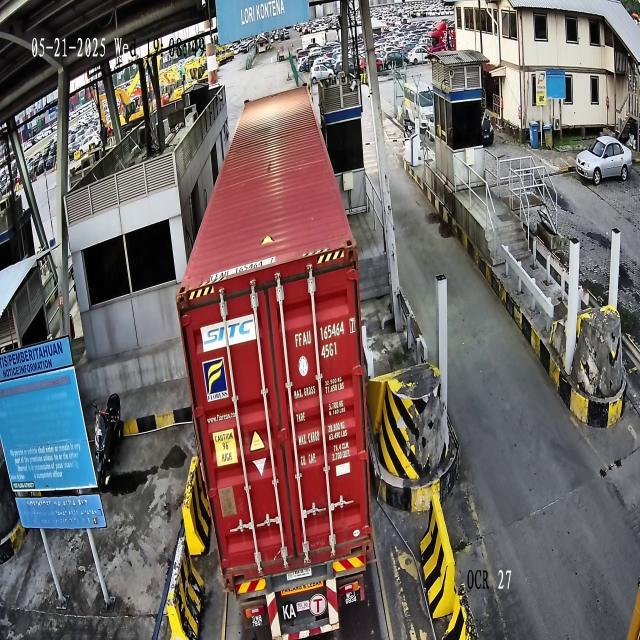ISO: (319, 338, 336, 361)
container_number: (294, 312, 358, 347)
